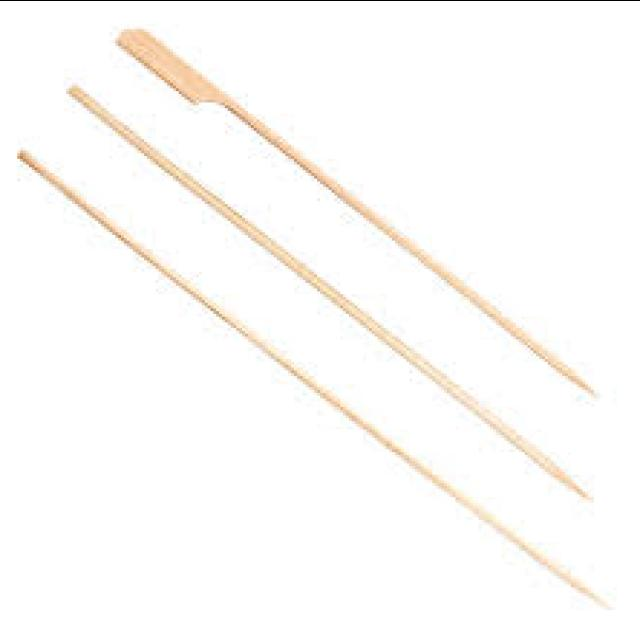stick: (19, 151, 612, 606), (73, 87, 580, 489), (119, 29, 594, 392)
